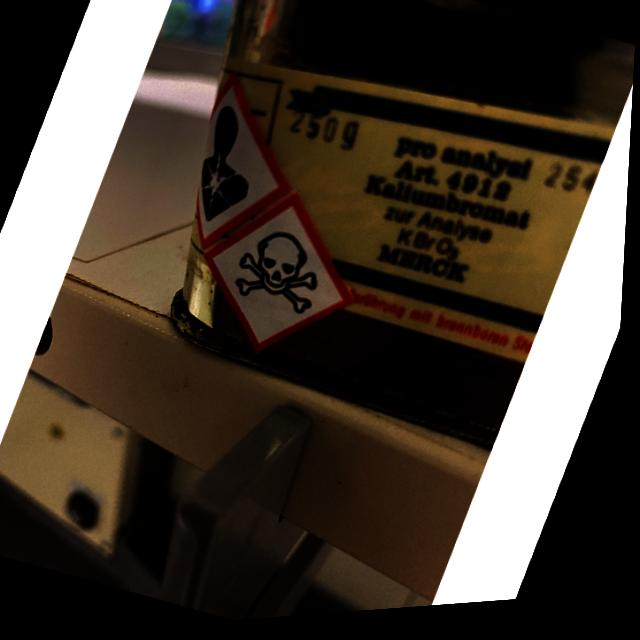acute toxicity: (175, 171, 390, 388)
serious health hazard: (163, 68, 327, 274)
